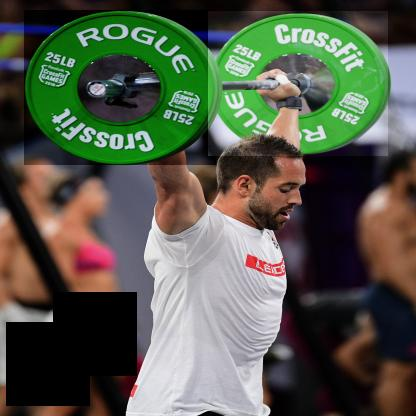barbell: (25, 11, 217, 166), (209, 12, 389, 157)
